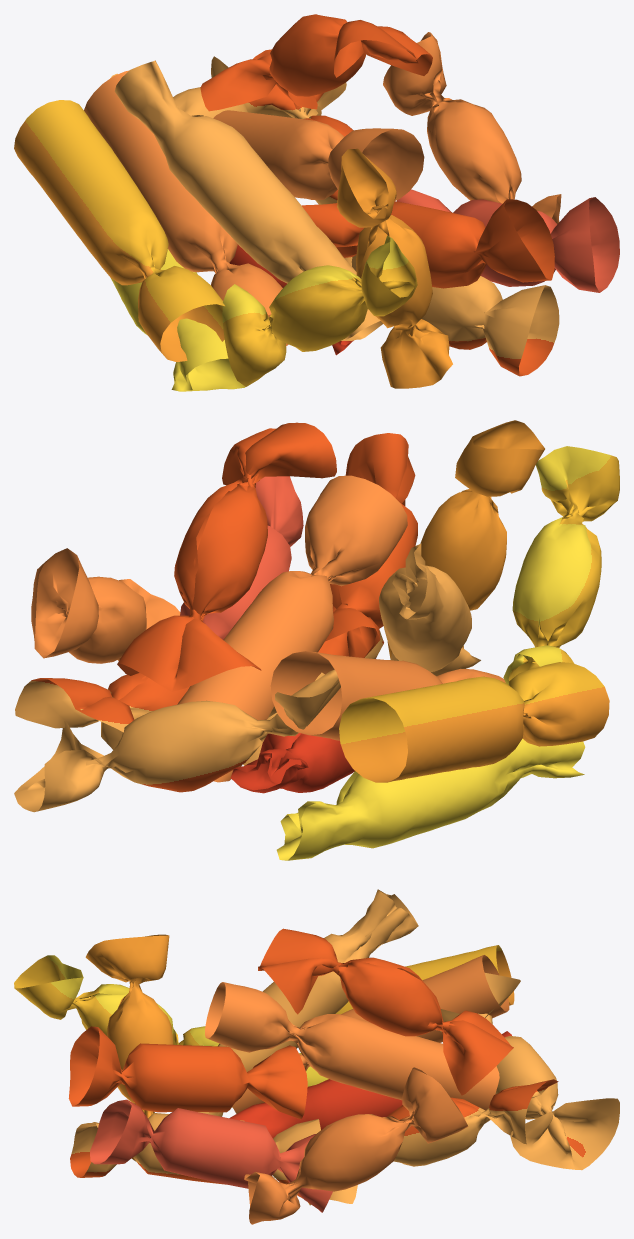
Rendered from caramelos_01.fbx.
3 renders of one model, top to bottom at view 1: azimuth 30°, elevation 25°; view 2: azimuth 150°, elevation 25°; view 3: azimuth 270°, elevation 25°, orthographic. The views are drawn at different scales.
Visible parts, largest first — view 1: caramelos_01; view 2: caramelos_01; view 3: caramelos_01.
Boxes of the visible parts, box(x1,y1,x2,y2) form: caramelos_01: box(14, 14, 619, 391); caramelos_01: box(14, 420, 619, 860); caramelos_01: box(14, 889, 619, 1224).
Bounding box in the file's own units: 30.27 × 19.92 × 43.21.
